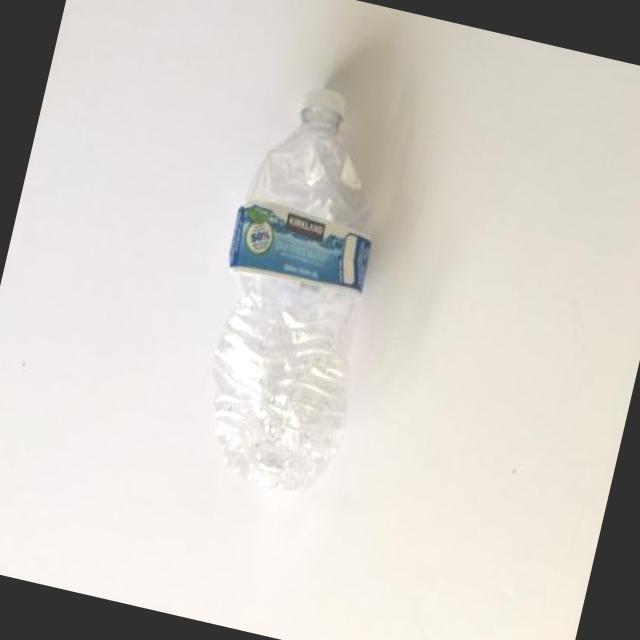Recycle: (184, 78, 418, 500)
